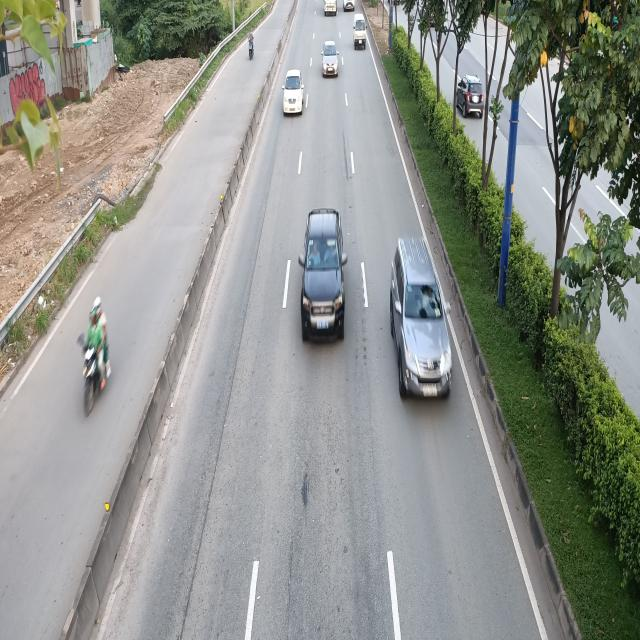car: (389, 234, 451, 400), (298, 211, 346, 343), (281, 71, 304, 118), (320, 41, 339, 78)
van: (352, 14, 368, 49)
